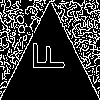F: (25, 41, 64, 72)
